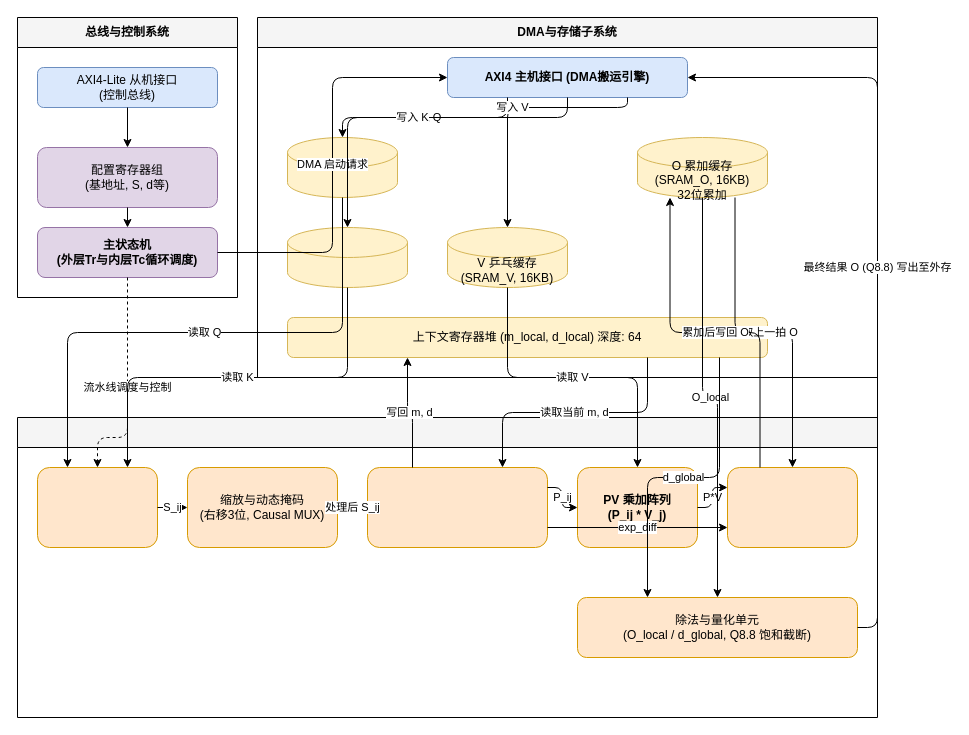
Image size: 969x735. Some labels were removed from this diagram. The shapes that lost their labels are listed below. From the top down, each one's box as (x1, y1, x2, y2) in pixels, then its label:
(286, 136, 398, 198): Q 缓存 (SRAM_Q, 8KB)
(286, 226, 408, 288): K 乒乓缓存 (SRAM_K, 16KB)
(36, 466, 158, 548): QK 乘加阵列 (Q_i * K_j^T)
(366, 466, 548, 548): 在线 Softmax 引擎 (求最大值, EXP查表, d累加)
(726, 466, 858, 548): O 矩阵更新单元 (O * exp_diff + P*V)
(16, 416, 878, 718): 核心计算数据通路 (Datapath)
